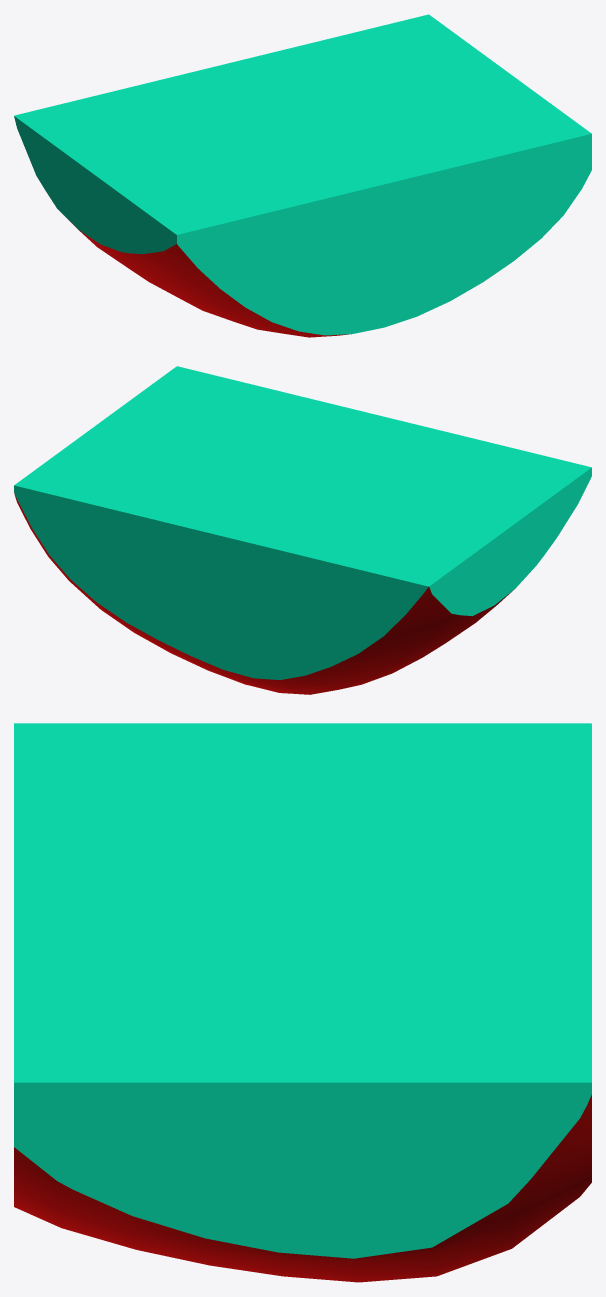
3 views of the same model, one above another, from view 1: azimuth 30°, elevation 25°; view 2: azimuth 150°, elevation 25°; view 3: azimuth 270°, elevation 25° (orthographic). The views are drawn at different scales.
Visible parts, largest first — view 1: 37_01; view 2: 37_01; view 3: 37_01.
Part boxes in pixels (x1=…): 37_01: x1=14, y1=14, x2=591, y2=337; 37_01: x1=14, y1=366, x2=591, y2=694; 37_01: x1=14, y1=723, x2=591, y2=1282.
Bounding box in the file's own units: 390 × 161 × 266.
